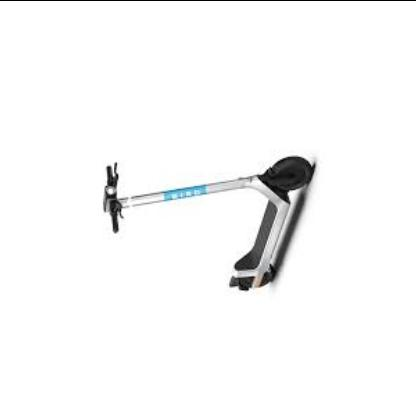bike: (102, 155, 318, 292)
